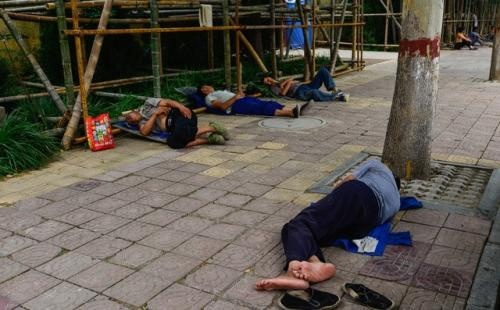falling: (182, 78, 310, 120)
